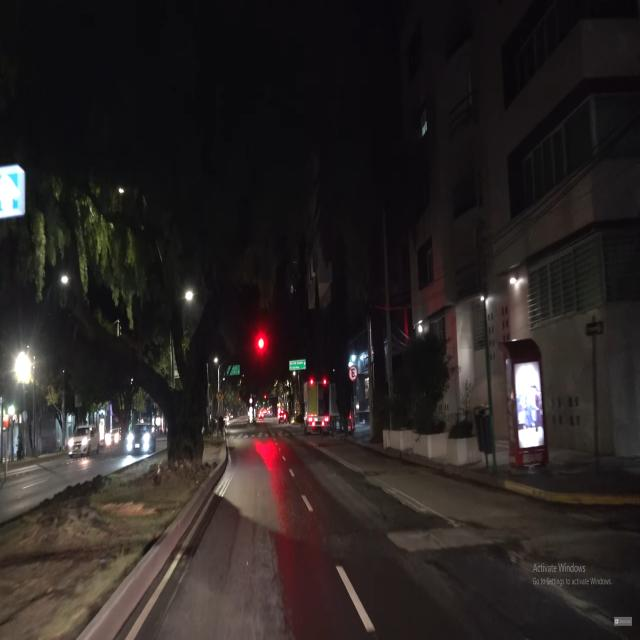headlights: (124, 430, 153, 454), (66, 434, 91, 450)
